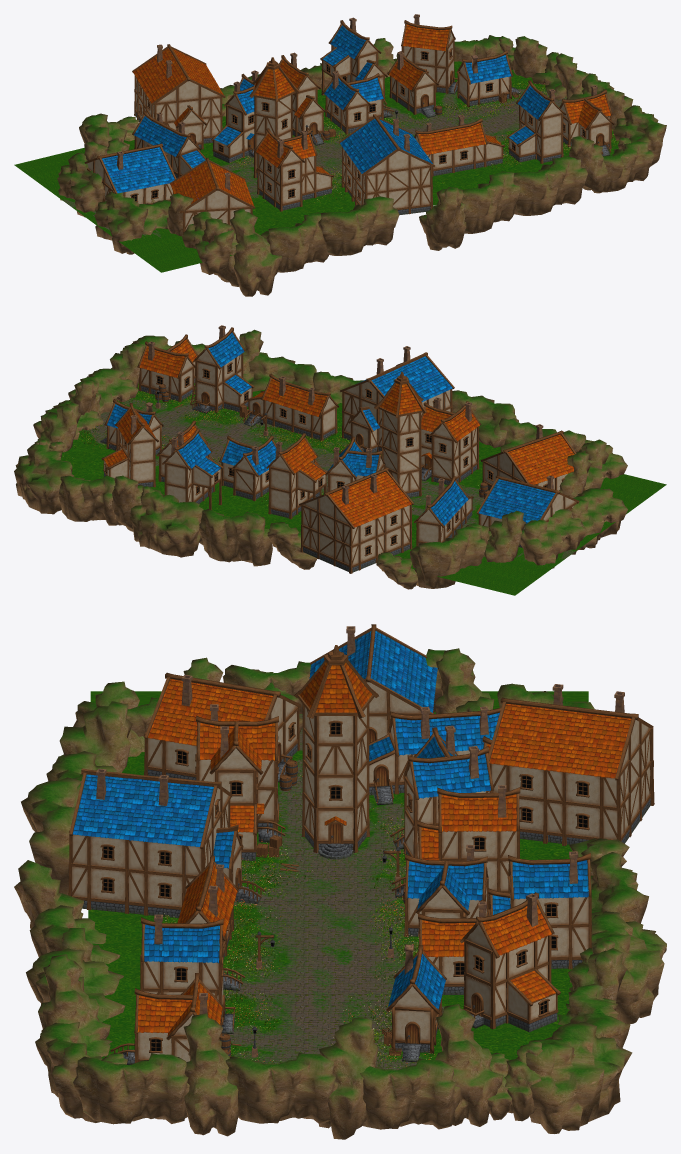
File: Map.fbx
3 views of the same model, one above another, from view 1: azimuth 30°, elevation 25°; view 2: azimuth 150°, elevation 25°; view 3: azimuth 270°, elevation 25° (orthographic). The views are drawn at different scales.
Parts seen in each view (by area): view 1: Map.001; view 2: Map.001; view 3: Map.001.
Part boxes in pixels (bbox=[...]): Map.001: bbox=[14, 14, 666, 296]; Map.001: bbox=[14, 325, 666, 595]; Map.001: bbox=[14, 624, 666, 1139].
Bounding box in the file's own units: 51.78 × 15.09 × 33.45.
6 materials, 5 textured.
